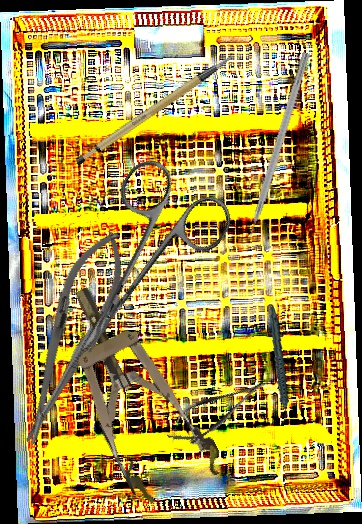Chopper: (232, 48, 311, 251)
Handpiece: (256, 307, 301, 423)
Iris Scissors: (33, 150, 240, 382)
Micro Scissor: (159, 367, 276, 453)
Needle Holder: (2, 222, 140, 453)
Scalpel Handle: (64, 54, 247, 169)
Speculum: (39, 267, 229, 513)
